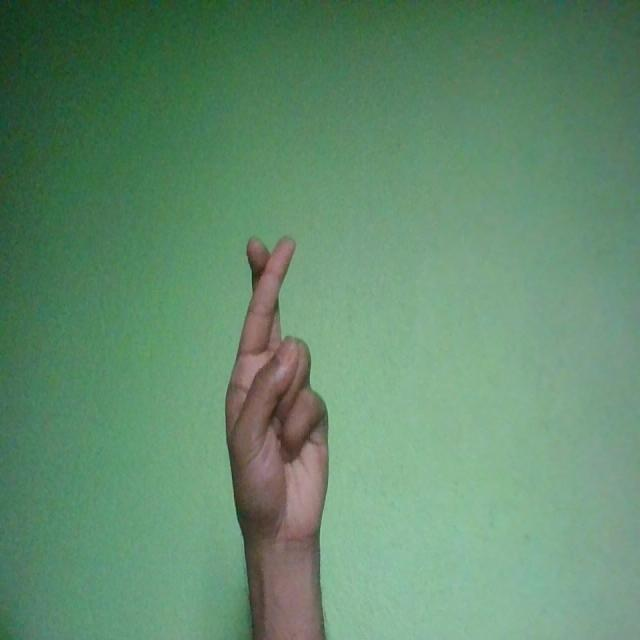Ok: (228, 234, 329, 548)
